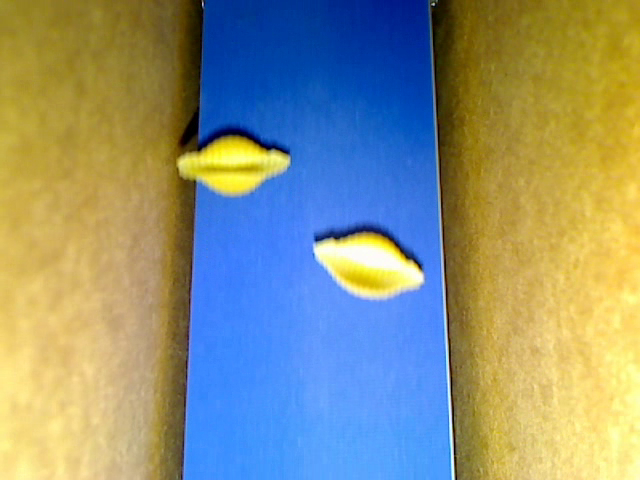shell: (314, 231, 425, 304), (174, 136, 290, 196)
